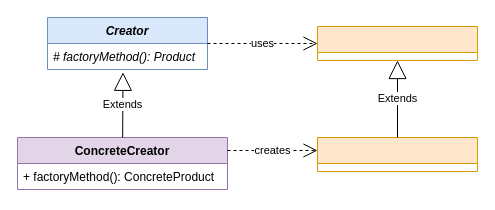
Some shapes in this 495 by 210 pixel diagram are drawn without their labels. Each missing label, with the centre of its shape:
ConcreteProduct: point 397,154
Product: point 397,43
